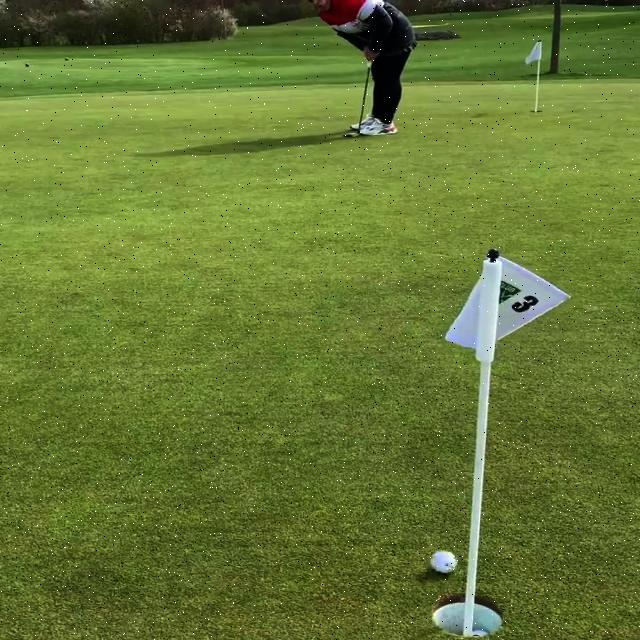ClubHandle: (342, 66, 370, 138)
ClubHead: (344, 131, 361, 138)
